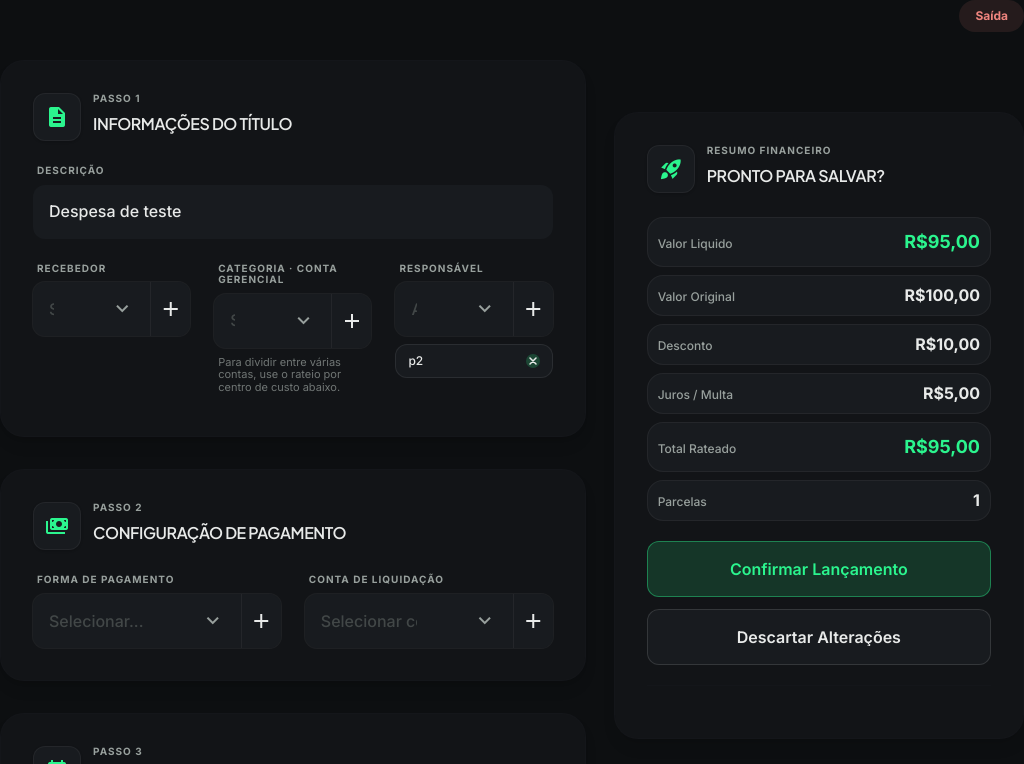
Test: FinancialAccountFormPage › applies server validation errors to the form
Click the button "Confirmar Lançamento". click: (819, 569)
box: [647,541,991,597]
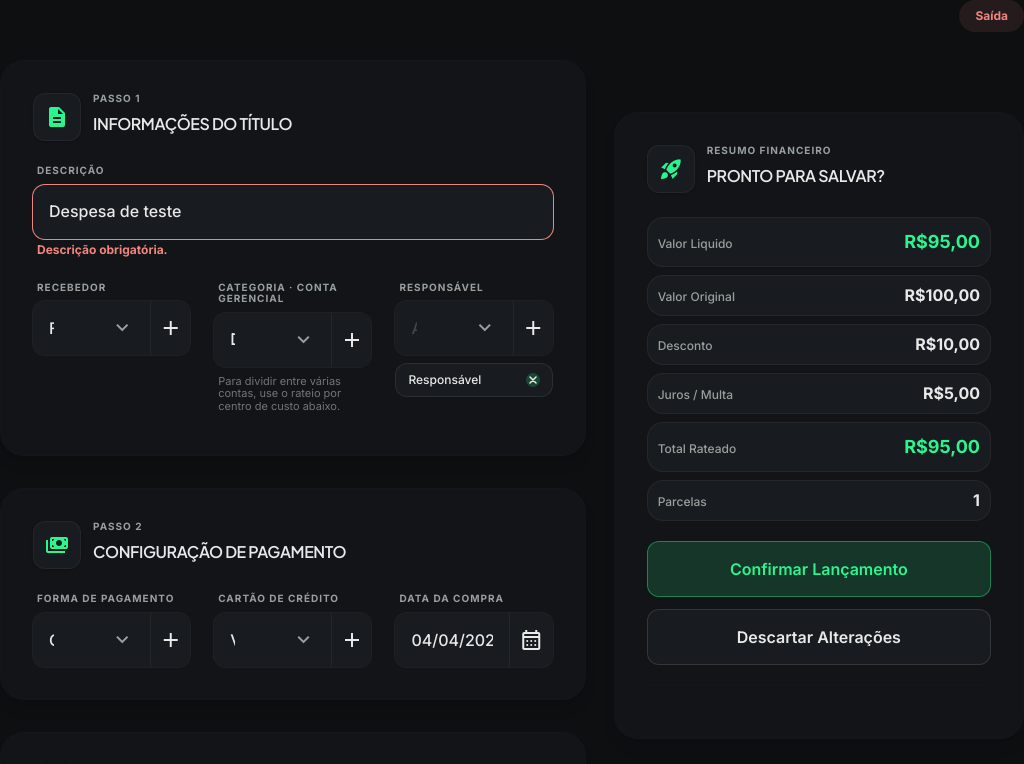
Expected: the text "Descrição obrigatória." is shown, [37,242,168,256]
